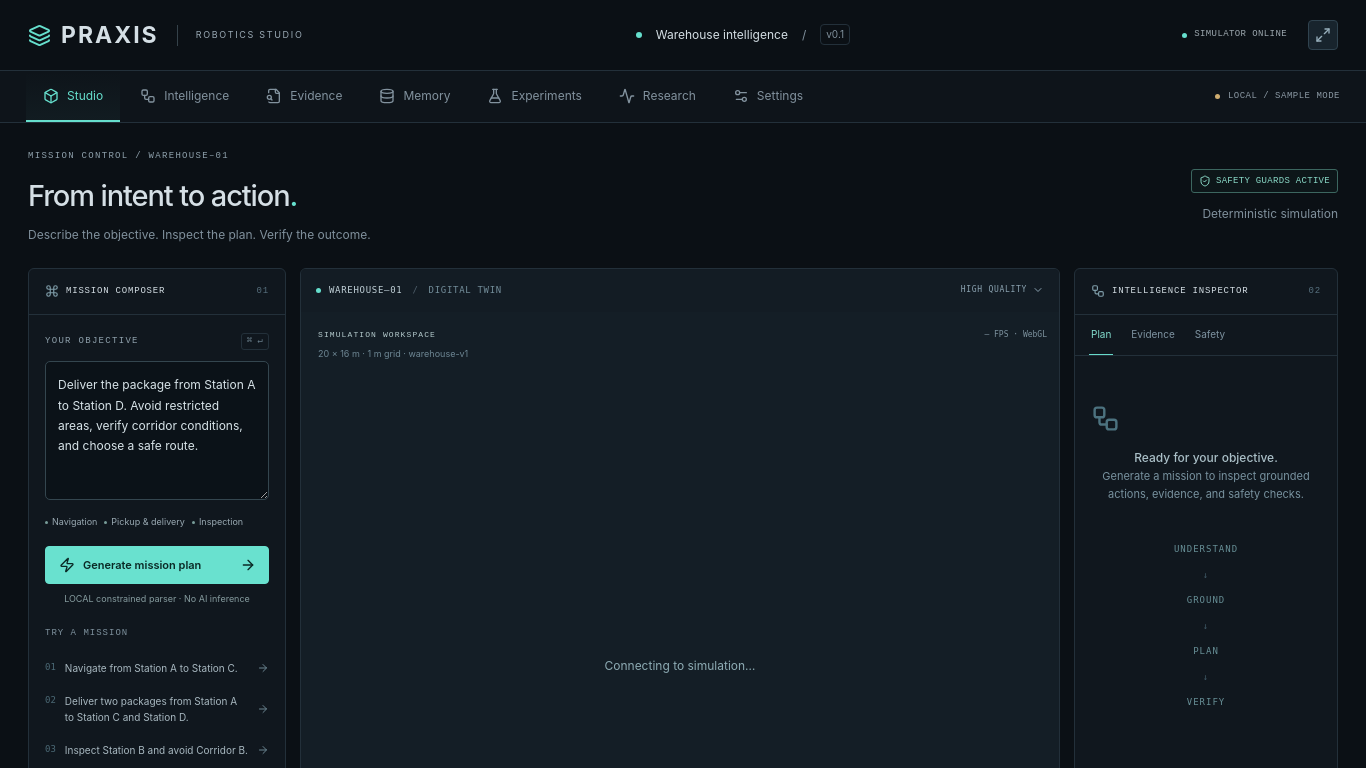
it: Studio workflow › navigates every workspace
Click the button "Intelligence": (185, 96) [123,71,246,122]
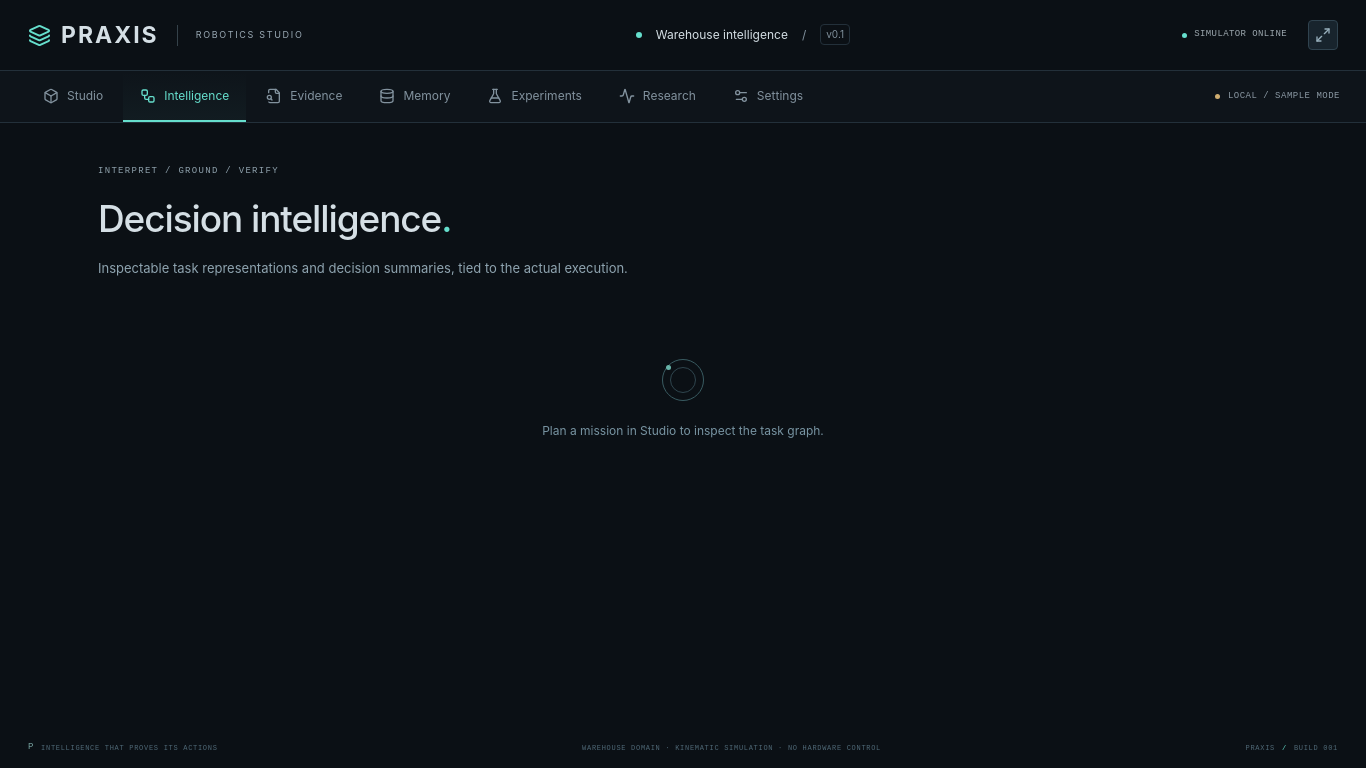
Expected: the heading "Decision intelligence." is shown, [98,196,451,240]
Click the button "Evidence": (304, 96) [249,71,360,122]
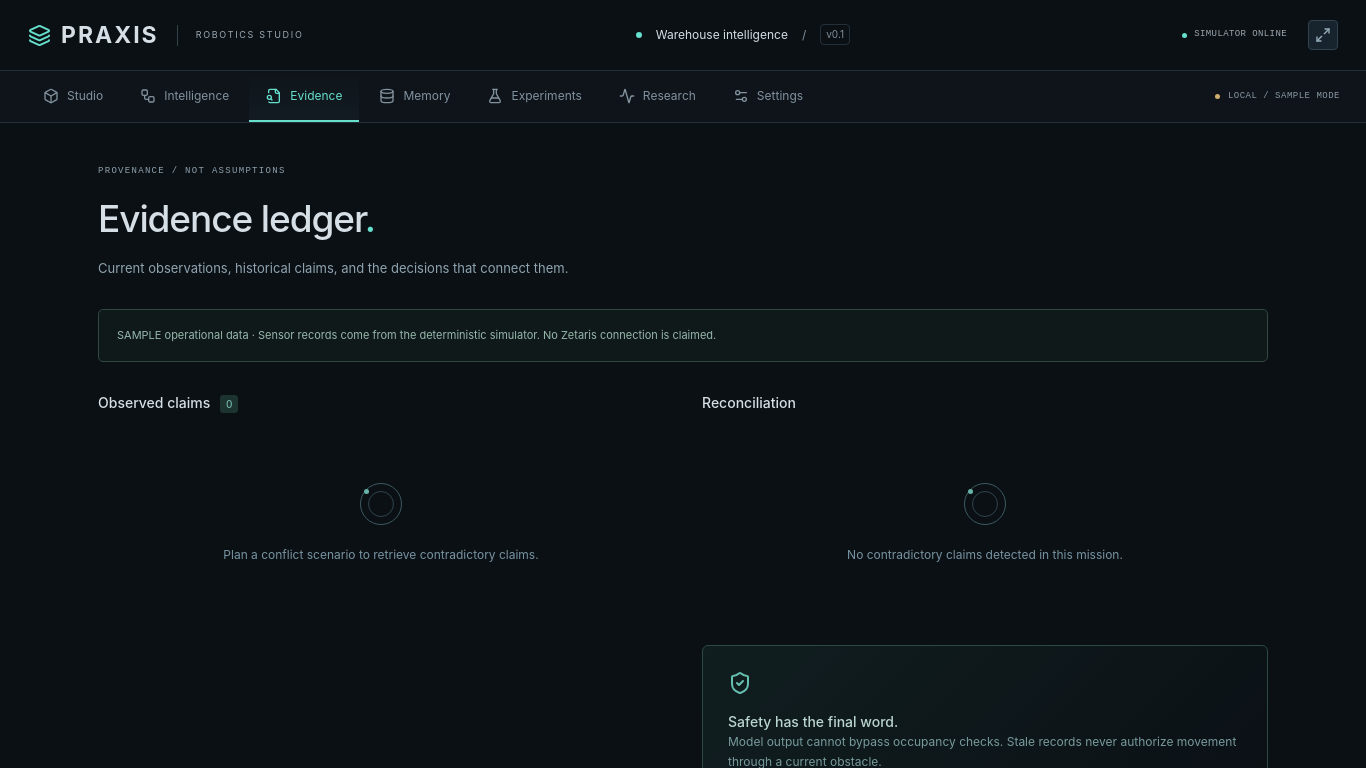
Expected: the heading "Evidence ledger." is shown, [98,196,375,240]
Click the button "Memory": (415, 96) [362,71,468,122]
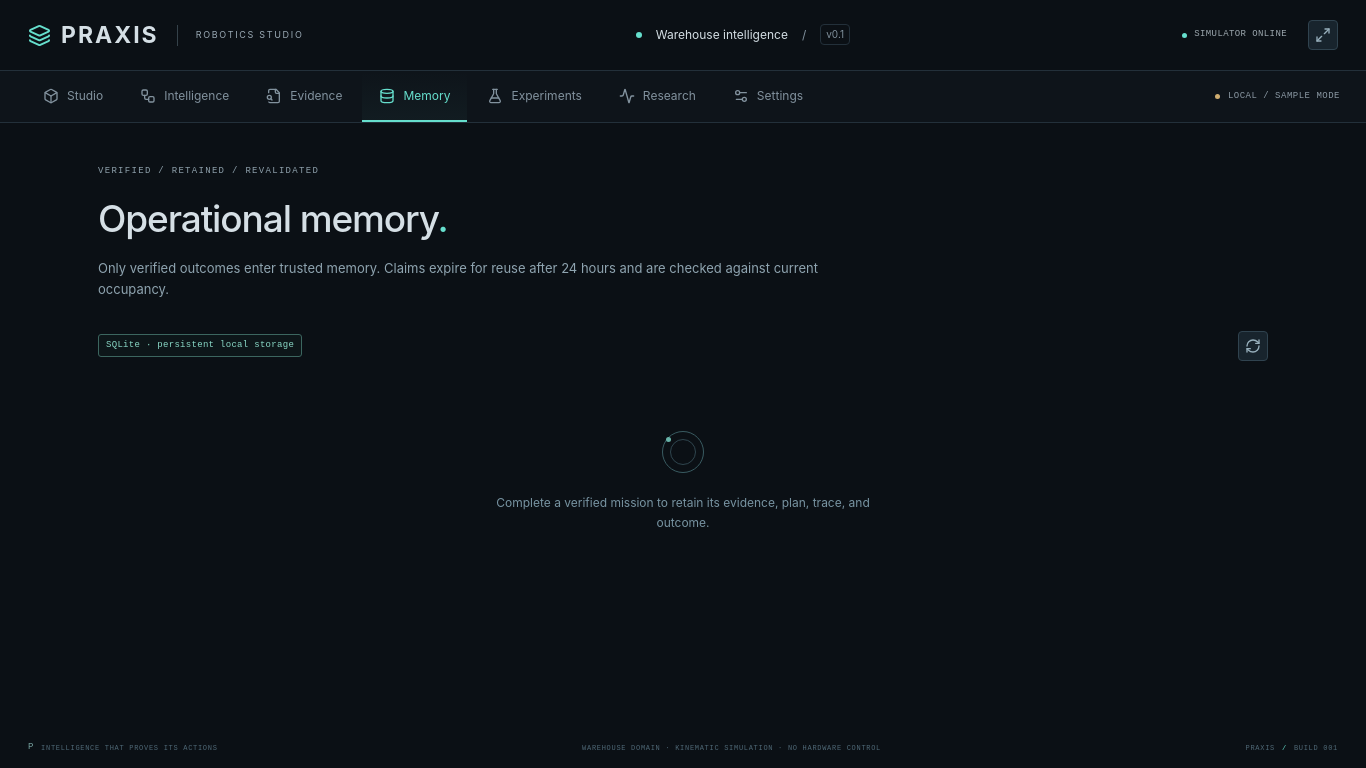
Expected: the heading "Operational memory." is shown, [98,196,448,240]
Click the button "Experiments": (535, 96) [470,71,599,122]
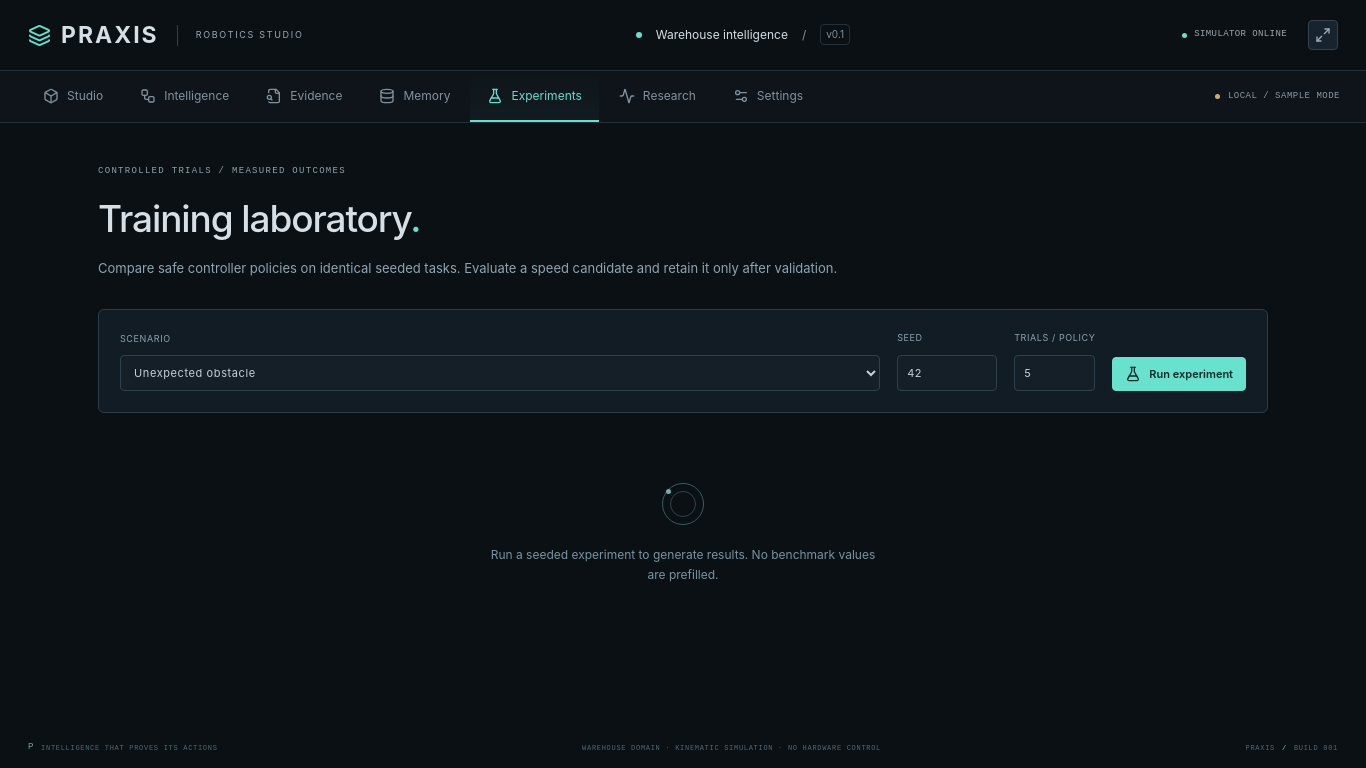
Expected: the heading "Training laboratory." is shown, [98,196,420,240]
Click the button "Research": (657, 96) [602,71,713,122]
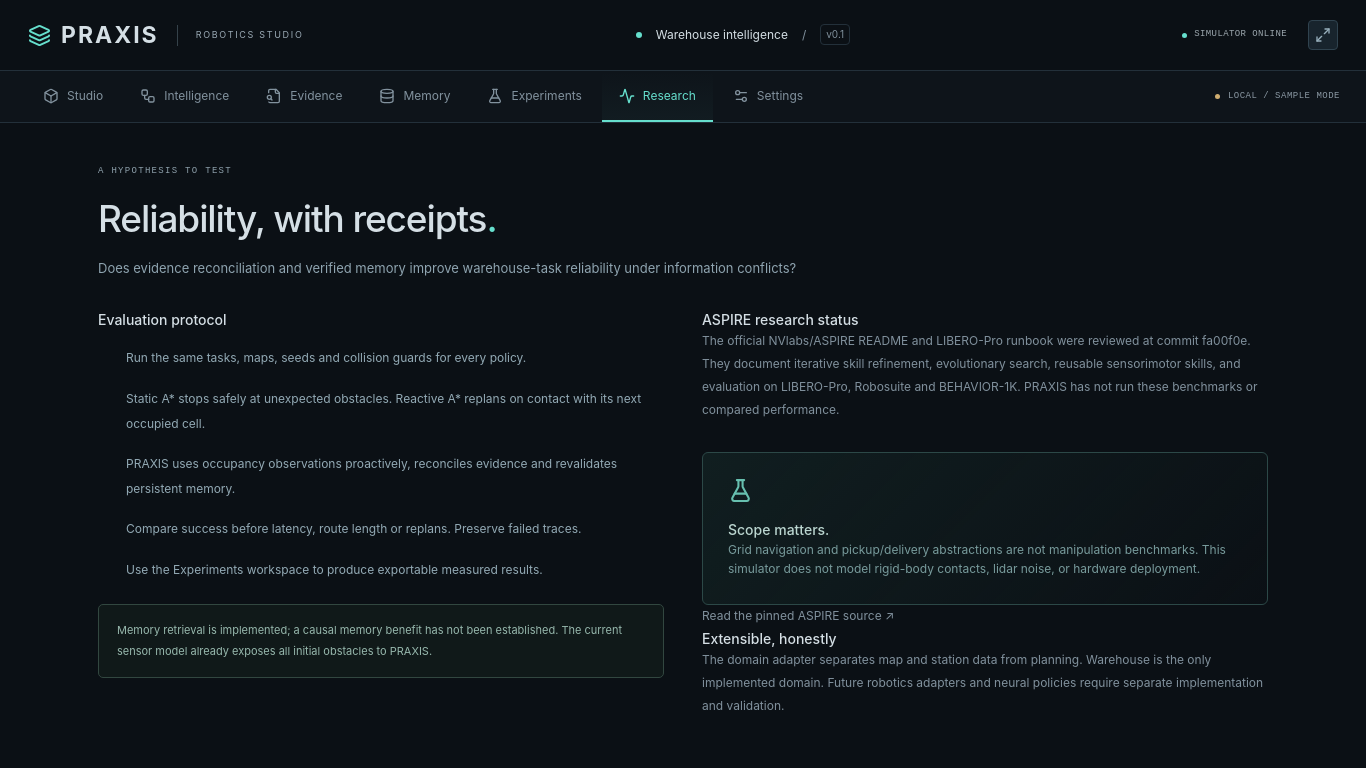
Expected: the heading "Reliability, with receipts." is shown, [98,196,497,240]
Click the button "Settings": (768, 96) [716,71,820,122]
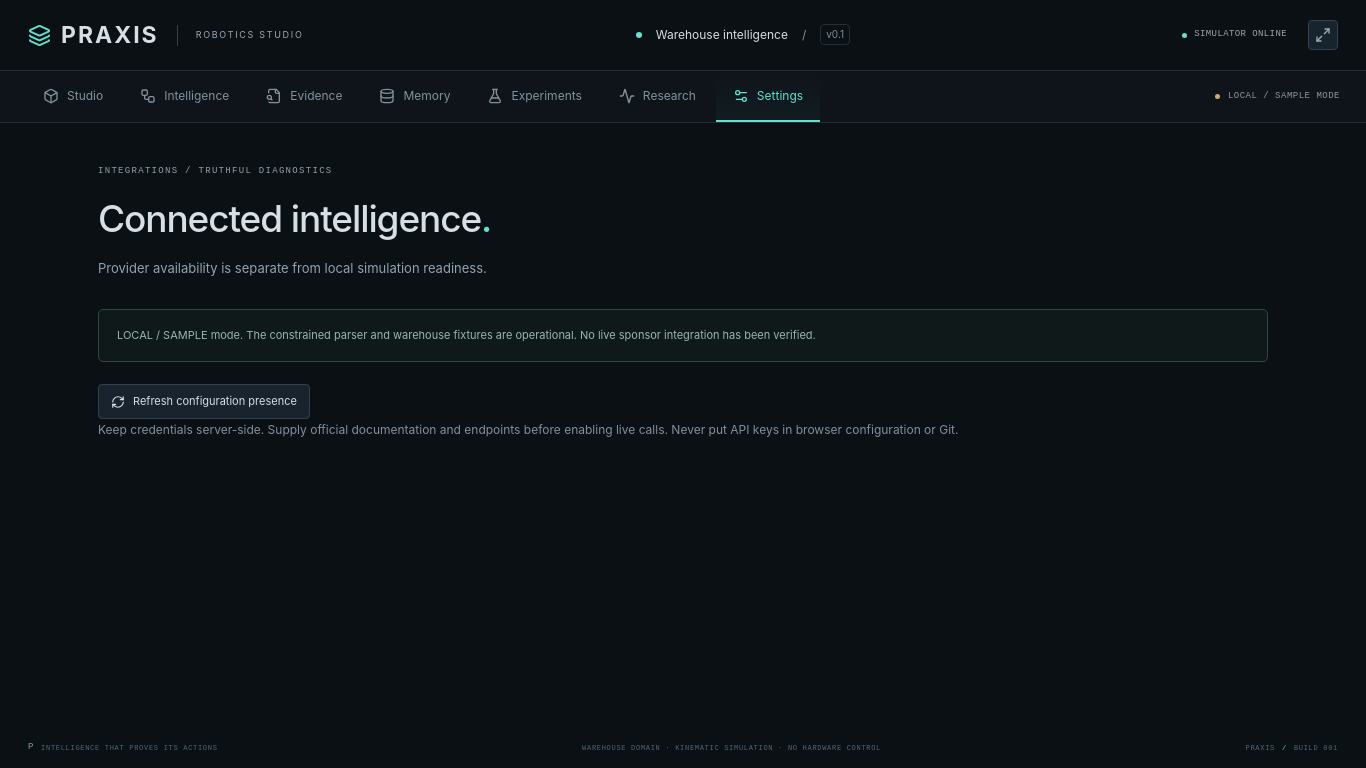
Expected: the heading "Connected intelligence." is shown, [98,196,491,240]
